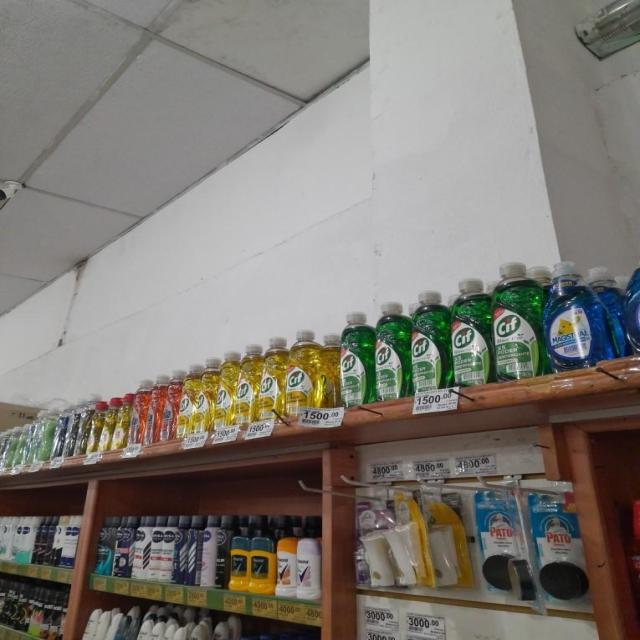ala_conc_rojo: (162, 370, 178, 443), (130, 378, 146, 446), (149, 375, 161, 444)
cif_conc_bot_amarilla: (284, 328, 326, 415), (258, 335, 284, 420), (235, 342, 258, 426), (216, 350, 236, 428), (194, 358, 214, 433), (179, 366, 195, 440)
cif_conc_botella_verde: (492, 260, 542, 382), (450, 277, 490, 387), (410, 288, 448, 394), (374, 300, 408, 401), (338, 310, 371, 407)
magistral_con_azul: (544, 260, 611, 372), (626, 248, 640, 357)
